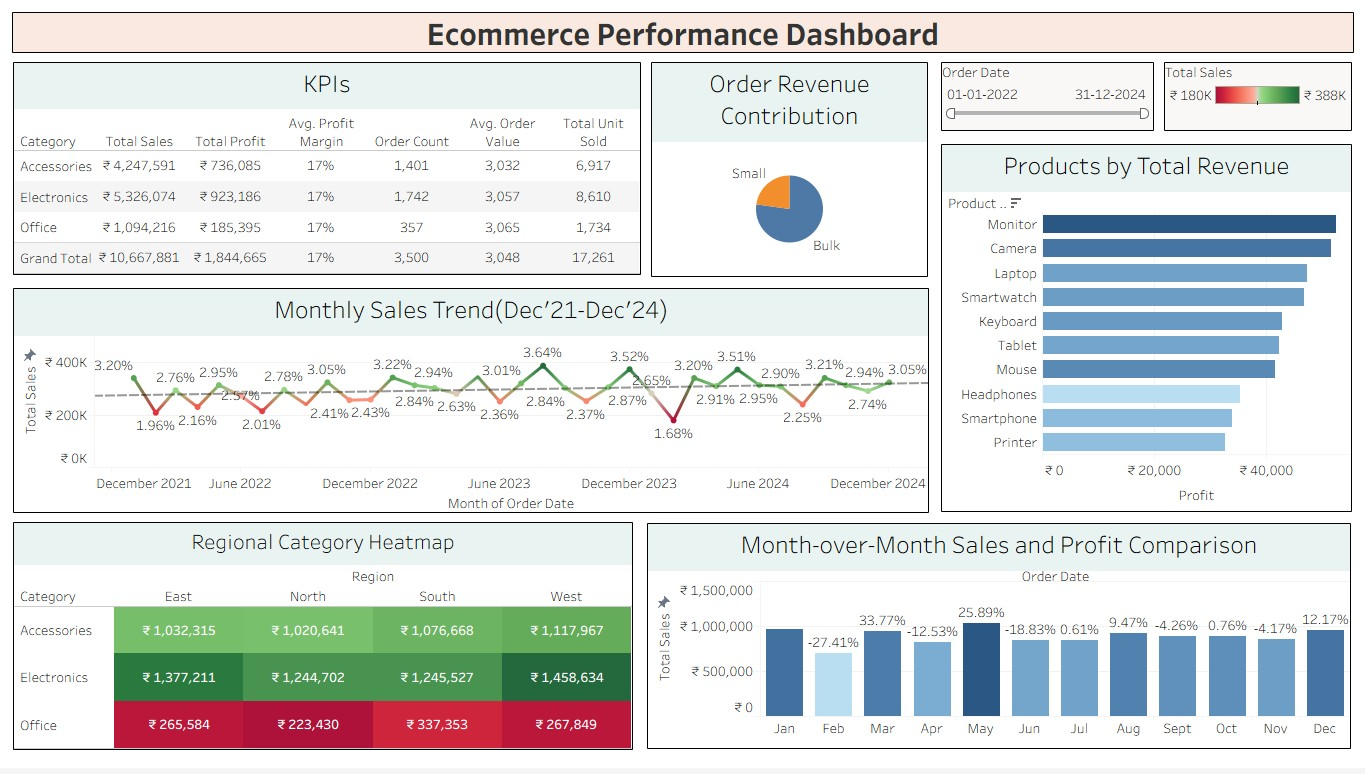

What the dashboard file says about the page in this screenshot:
{"tool":"tableau","page":{"name":"Dashboard","canvas":[1366,768],"ordinal":0},"visuals":[{"type":"title","box":[8,8,1350,49]},{"type":"worksheet","title":"KPI Sheet","mark":"Automatic","rows":["Category"],"box":[13,62,628,213]},{"type":"worksheet","title":"Order Size","mark":"Pie","box":[651,62,277,215]},{"type":"filter","title":"Monthly Trend(Dec'21-Dec'24)","param":"[federated.0n6tvuh1tk73ny18t8aqs09rgbmx].[none:Order Date:qk]","box":[941,62,213,69]},{"type":"legend","title":"Monthly Trend(Dec'21-Dec'24)","param":"[federated.0n6tvuh1tk73ny18t8aqs09rgbmx].[usr:Calculation_0902482090598400:qk]","box":[1164,62,188,69]},{"type":"worksheet","title":"Profit by product","mark":"Automatic","rows":["Product Name"],"cols":["Profit"],"box":[941,144,411,368]},{"type":"worksheet","title":"Monthly Trend(Dec'21-Dec'24)","mark":"Automatic","rows":["Calculation_0902482090598400"],"cols":["Order Date"],"box":[13,288,916,225]},{"type":"worksheet","title":"Regional Category Heatmap","mark":"Square","rows":["Category"],"cols":["Region"],"box":[13,522,620,228]},{"type":"worksheet","title":"MoM Growth (%) ","mark":"Bar","rows":["Calculation_0902482090598400"],"cols":["Order Date"],"box":[647,523,704,226]}]}

Visuals, with their boxes in screenshot pixels (x1, y1, x2, y2), scaled from the page's 1366x768 canvas onto the 1365x774 screenshot:
title: (8, 8, 1357, 57)
"KPI Sheet" worksheet: (13, 62, 641, 277)
"Order Size" worksheet (Pie marks): (651, 62, 927, 279)
"Monthly Trend(Dec'21-Dec'24)" filter: (940, 62, 1153, 132)
"Monthly Trend(Dec'21-Dec'24)" legend: (1163, 62, 1351, 132)
"Profit by product" worksheet: (940, 145, 1351, 516)
"Monthly Trend(Dec'21-Dec'24)" worksheet: (13, 290, 928, 517)
"Regional Category Heatmap" worksheet (Square marks): (13, 526, 633, 756)
"MoM Growth (%) " worksheet (Bar marks): (647, 527, 1350, 755)
